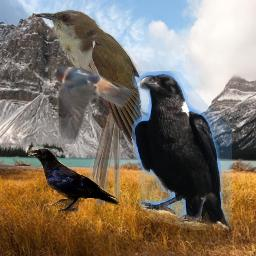Crow: (132, 71, 232, 230), (28, 148, 120, 212)
Cuckoo: (34, 8, 142, 205)
Swallow: (51, 63, 136, 144)
